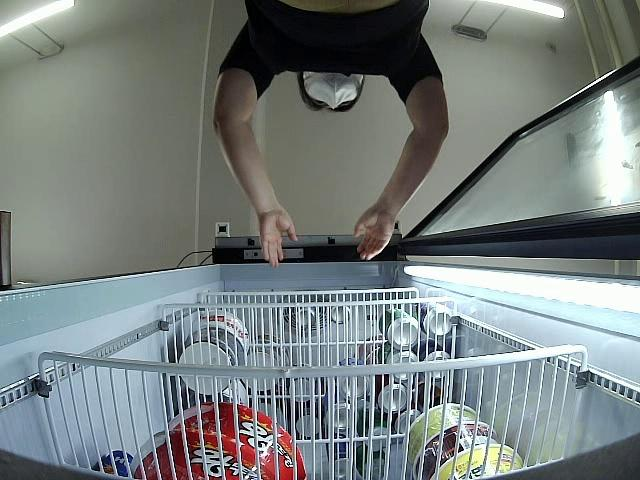00_hand: (354, 204, 394, 261), (261, 209, 300, 267)
